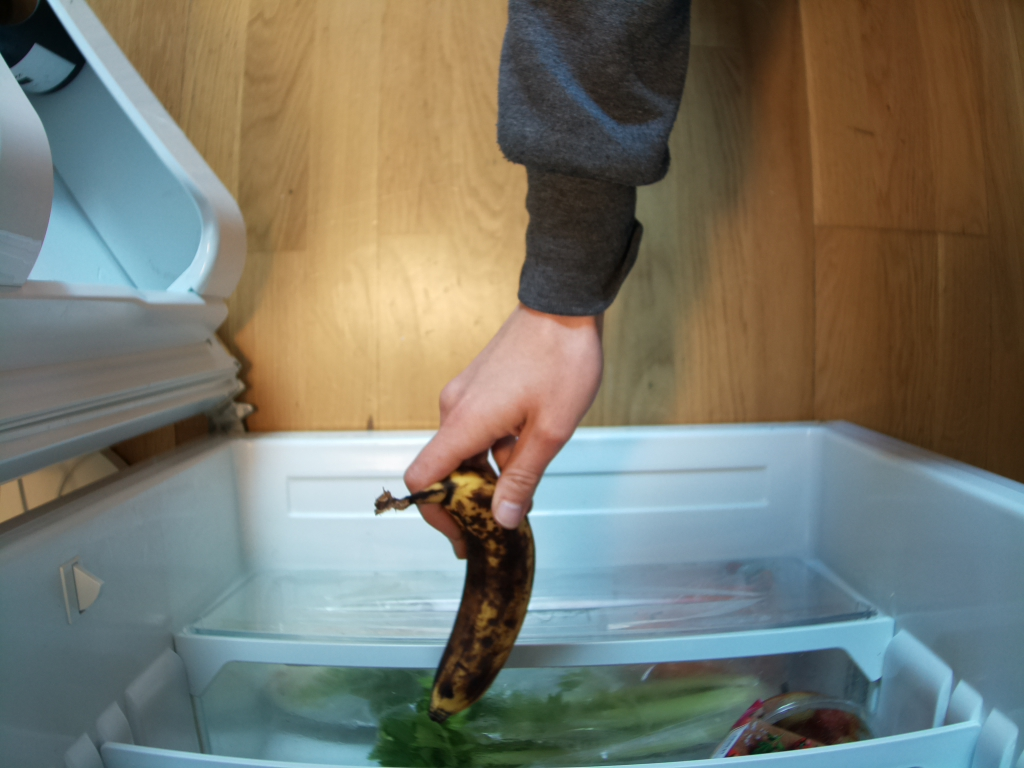banana-overripe: (375, 463, 538, 717)
